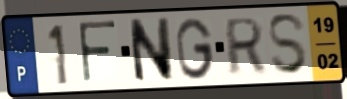1: (46, 22, 71, 87)
F: (76, 19, 119, 86)
G: (174, 15, 216, 81)
N: (126, 16, 175, 86)
R: (225, 15, 267, 78)
S: (265, 12, 310, 78)
